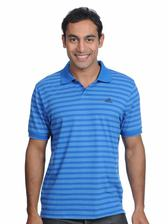clothoes: (21, 56, 145, 216)
